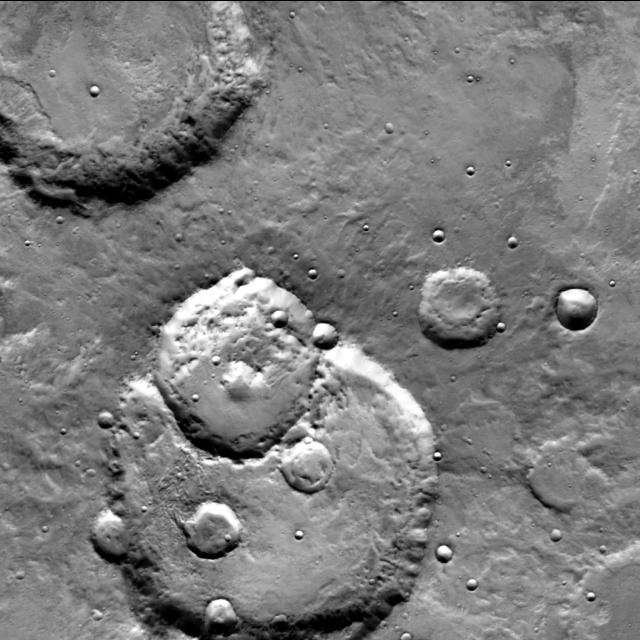crater: (105, 308, 438, 640), (0, 0, 251, 205), (152, 268, 320, 444), (568, 542, 640, 640), (417, 258, 499, 343), (526, 433, 592, 502), (182, 494, 236, 552), (280, 431, 332, 485), (89, 499, 140, 554), (554, 279, 594, 321), (202, 592, 236, 628), (578, 462, 608, 492), (310, 314, 336, 342), (255, 616, 279, 640), (433, 534, 452, 554), (95, 402, 114, 421), (271, 606, 289, 624), (271, 300, 288, 318), (549, 519, 563, 533), (430, 220, 444, 233), (505, 227, 518, 241), (465, 570, 477, 582), (87, 76, 98, 88), (402, 626, 412, 638), (496, 312, 506, 323), (307, 260, 317, 270), (382, 114, 392, 124), (91, 602, 101, 612), (14, 563, 24, 573), (84, 460, 94, 470), (598, 536, 606, 546), (316, 0, 326, 8), (292, 522, 300, 531), (465, 158, 474, 166), (48, 59, 56, 68), (190, 385, 198, 394), (588, 584, 596, 592), (430, 444, 438, 452), (448, 366, 456, 374), (304, 428, 312, 436), (336, 262, 344, 270), (266, 238, 274, 246), (0, 455, 8, 463), (218, 356, 225, 364), (175, 223, 182, 231), (46, 524, 53, 532), (138, 432, 146, 439), (402, 604, 409, 612), (64, 214, 70, 222), (616, 278, 622, 286), (486, 466, 492, 474), (81, 458, 87, 466), (66, 427, 72, 434), (376, 578, 383, 584), (447, 422, 452, 430), (472, 74, 478, 80)
